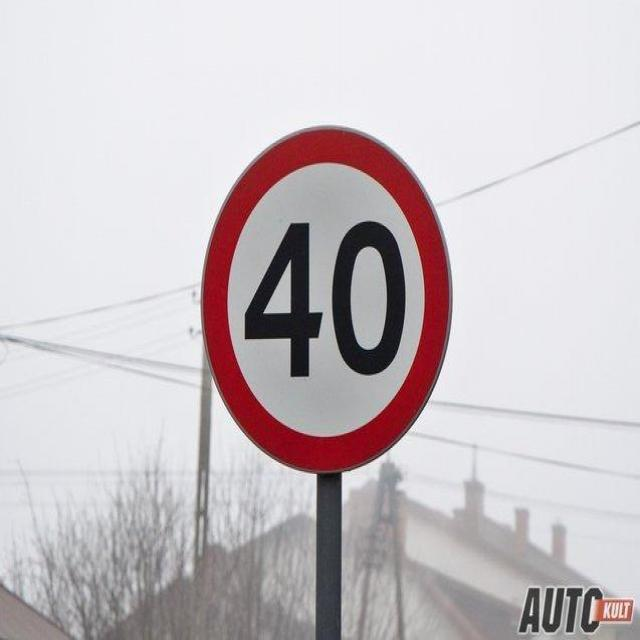speed limit 40: (201, 128, 455, 478)
